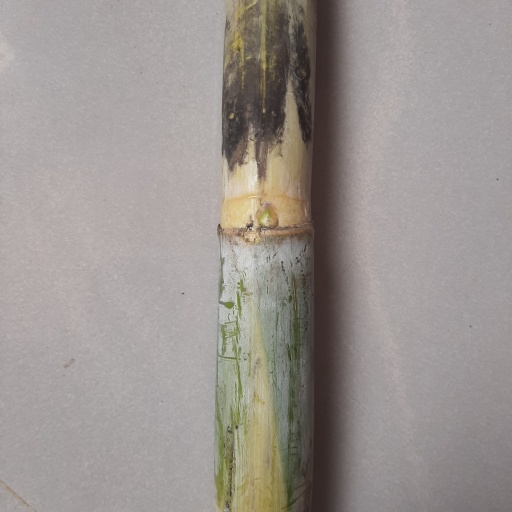Bud: (254, 201, 280, 231)
